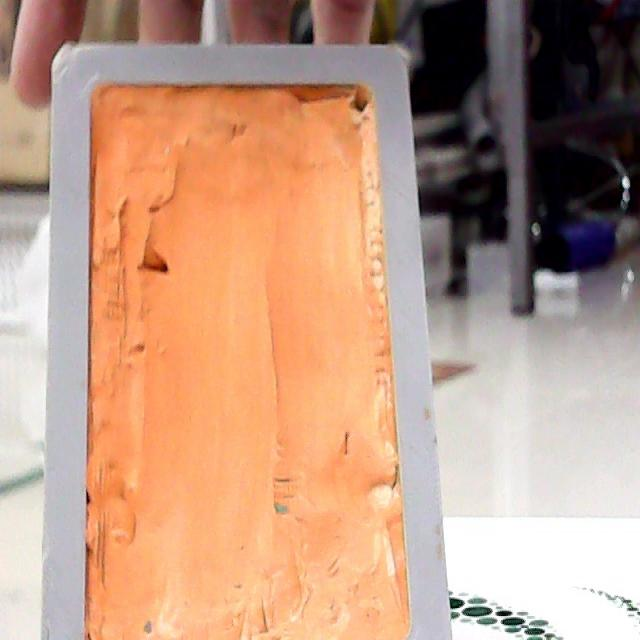block: (29, 43, 452, 640)
